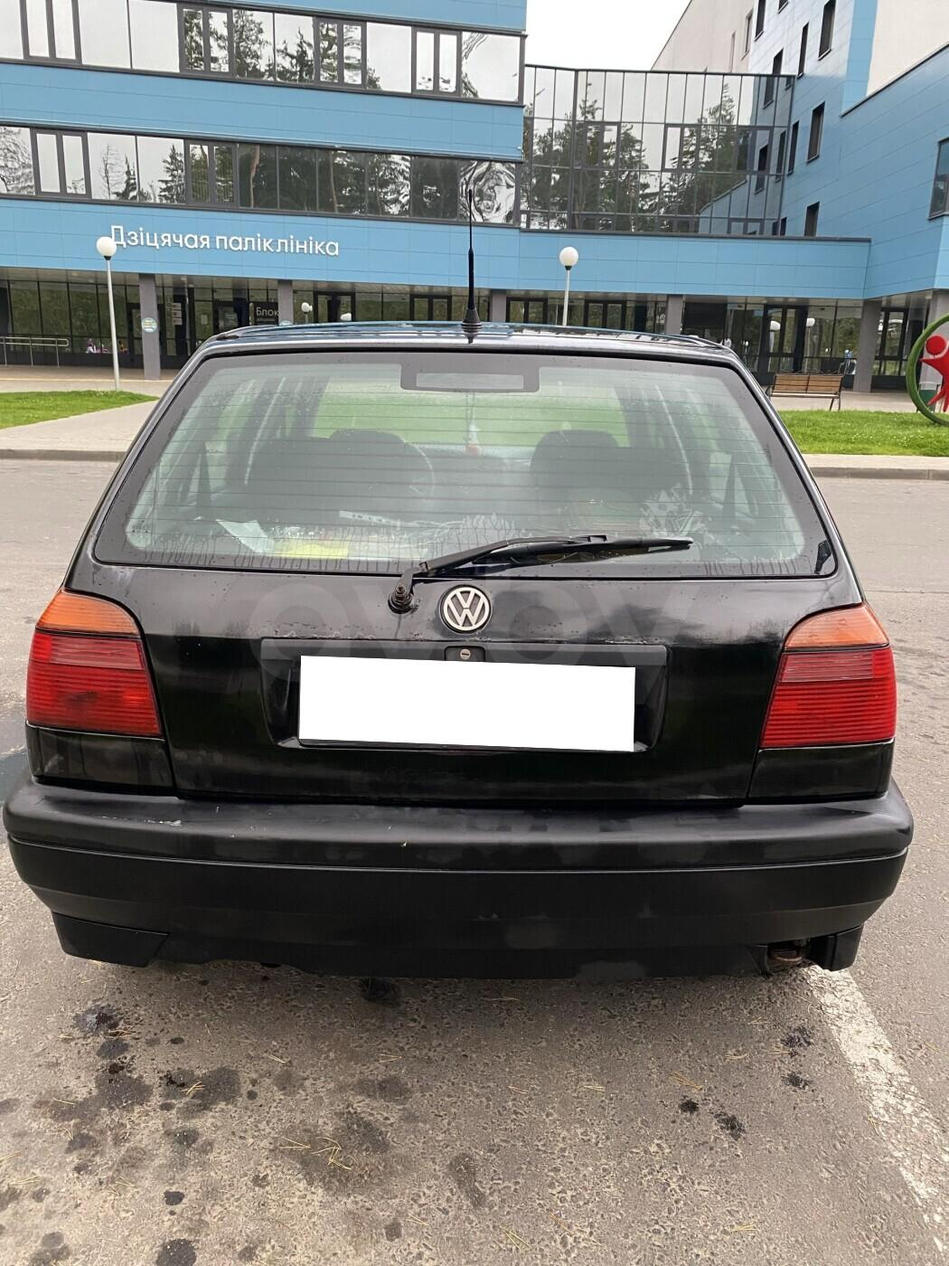Golf_1991-2000: (2, 303, 916, 987)
